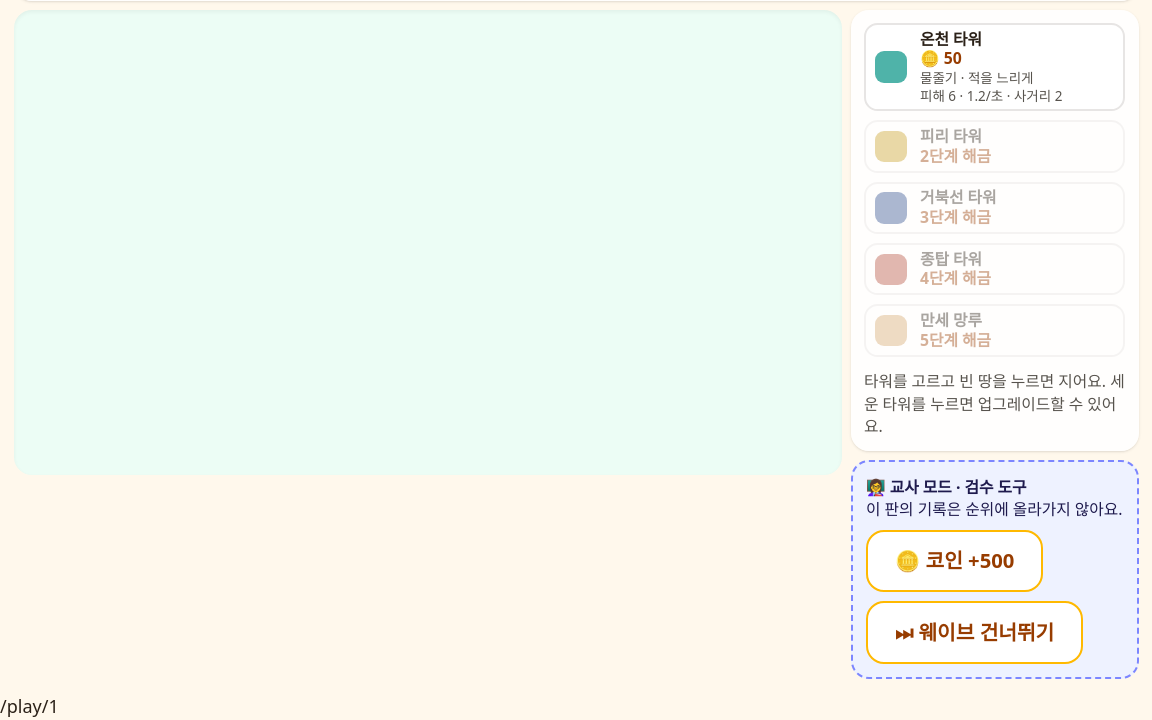
Test: PlayPage — 교사 검수 도구 › 교사 세션: 코인 +500, 웨이브 세 번 건너뛰면 스테이지 클리어
(page scrolled)
Check: the element named "교사 검수 도구" is shown, box [850,460,1138,679]
Click the button "🪙 코인 +500". click: (955, 561)
box: [866,530,1043,592]
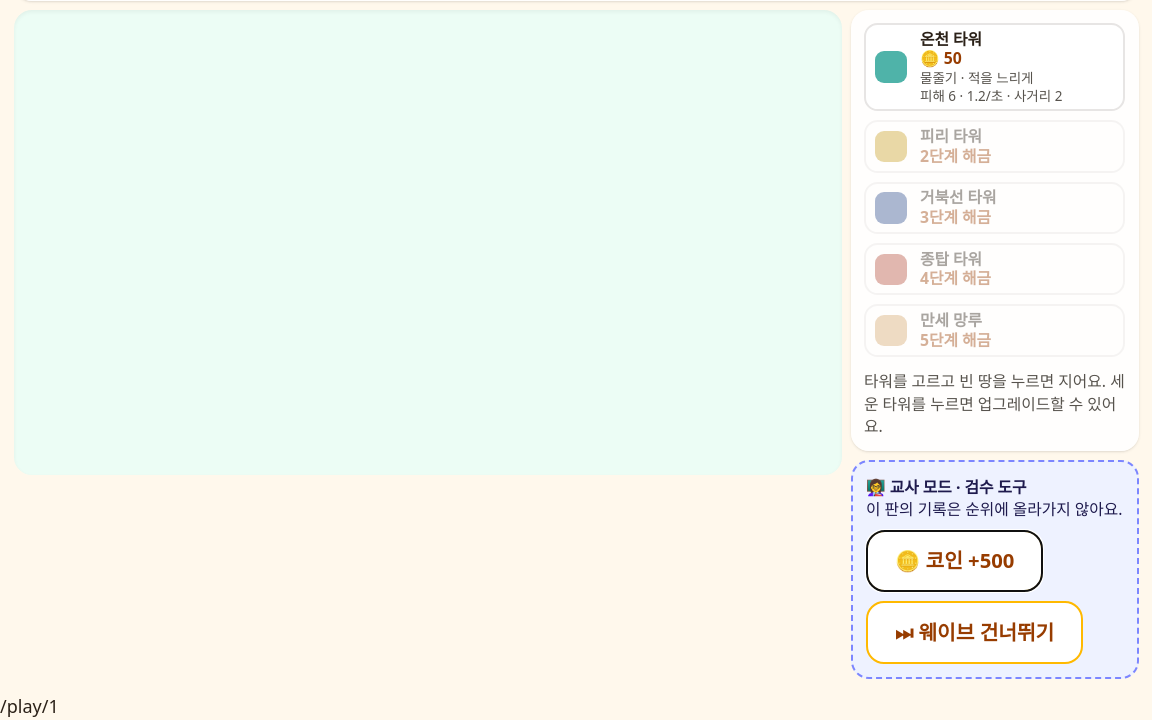
Click the button "⏭ 웨이브 건너뛰기". click: (975, 633)
box: [866,601,1083,664]
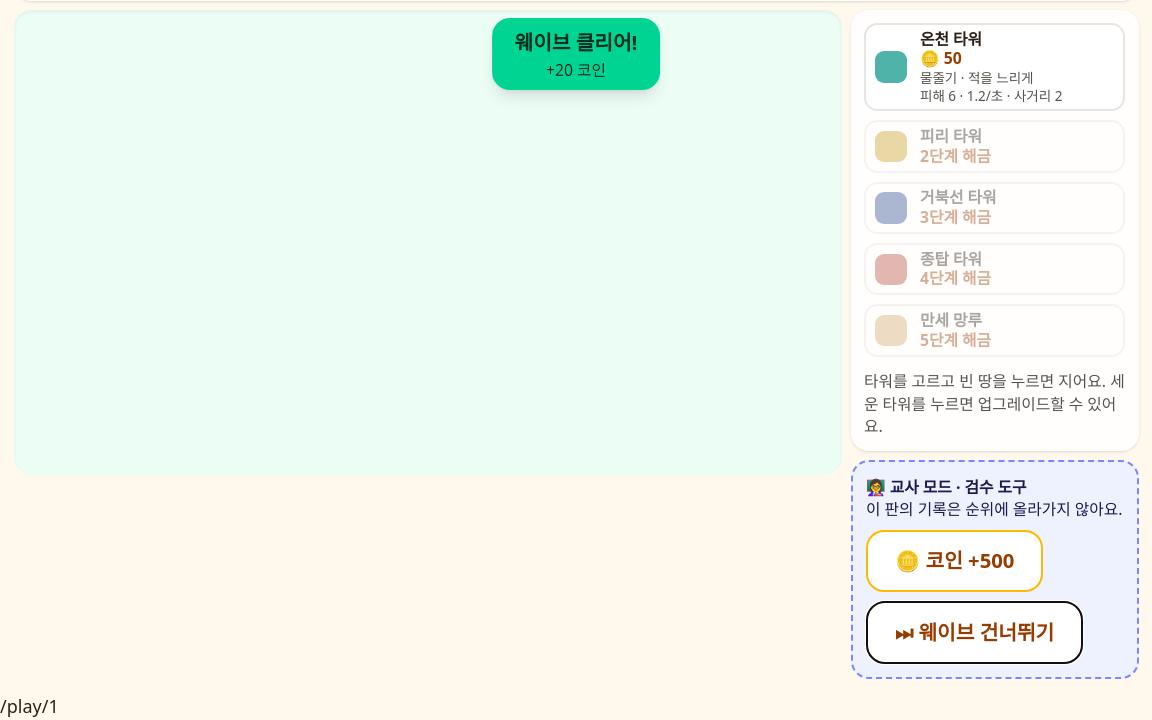
Click the button "⏭ 웨이브 건너뛰기". click: (975, 633)
box: [866,601,1083,664]
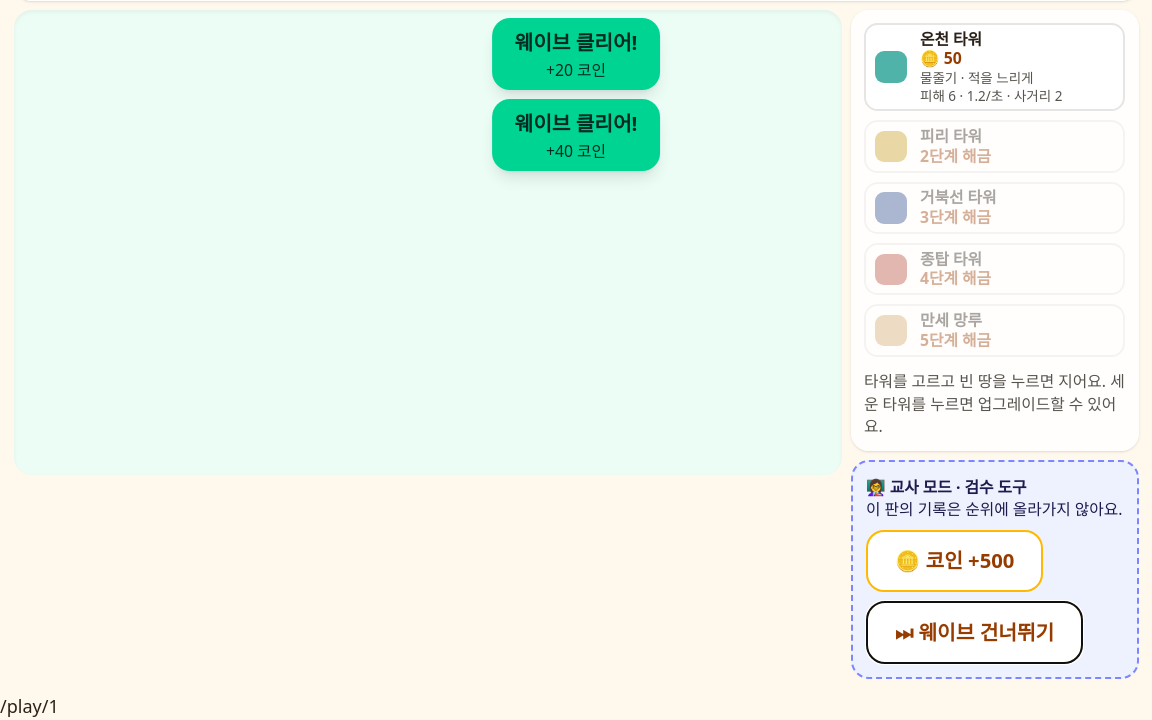
Click the button "⏭ 웨이브 건너뛰기". click: (975, 633)
box: [866,601,1083,664]
(page scrolled)
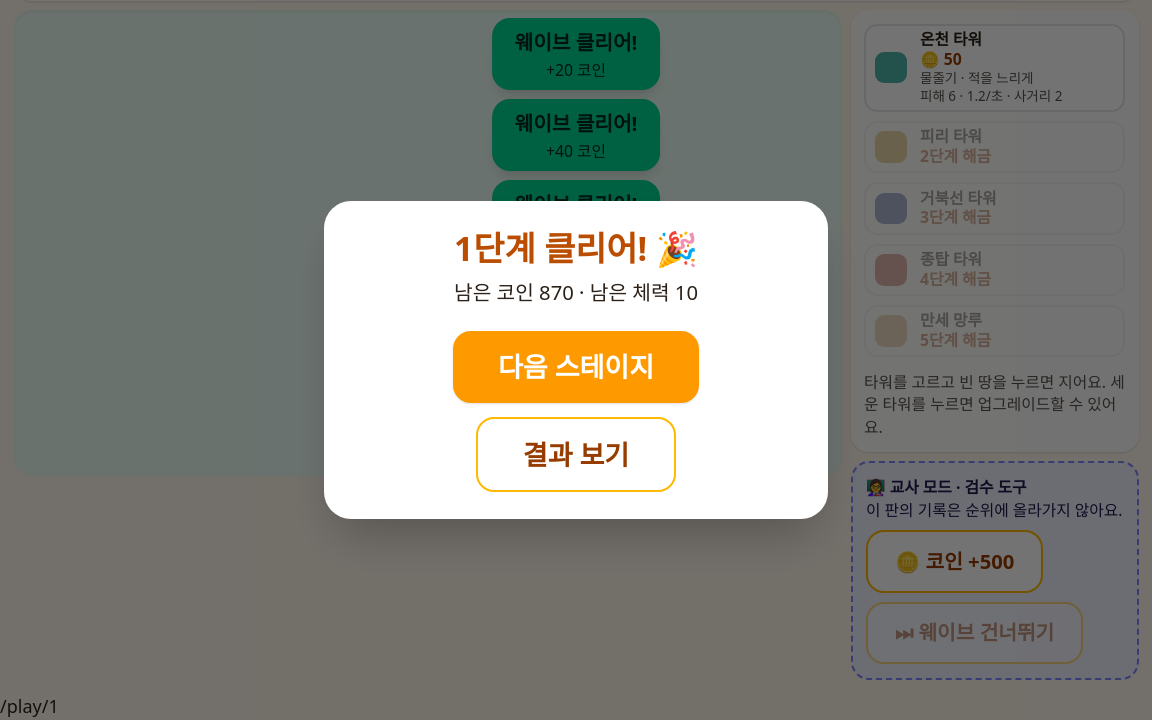
Check: the dialog named "스테이지 클리어" is shown, box [324,200,828,520]
